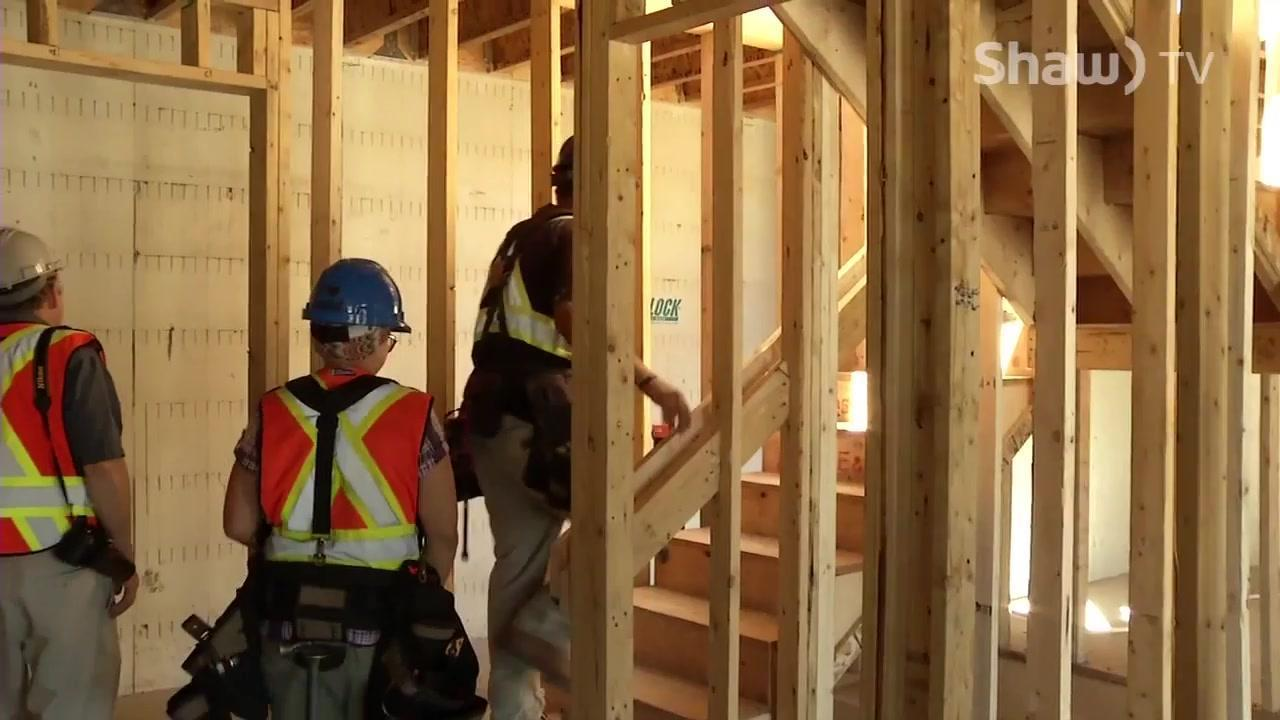Boots: (298, 251, 411, 339), (0, 233, 70, 298)
Glass: (249, 375, 439, 571), (459, 205, 608, 386), (0, 323, 102, 558)
